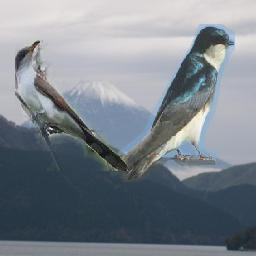Cuckoo: (16, 41, 129, 172)
Swallow: (109, 24, 236, 182)
